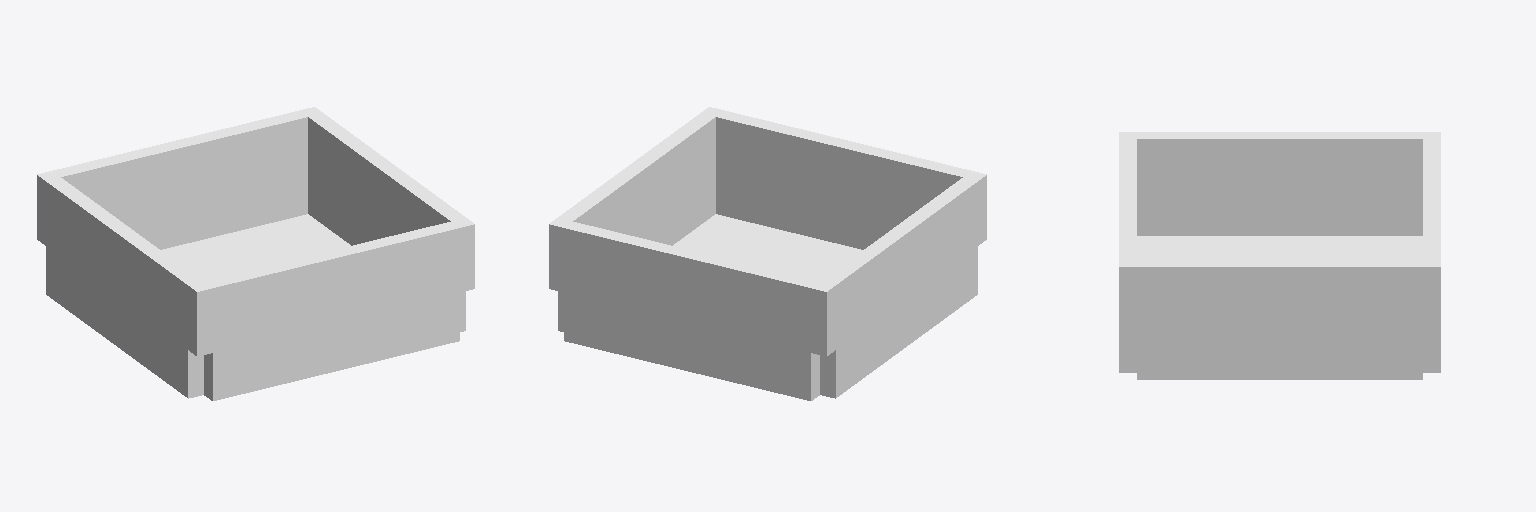
File: Customsbox.obj
3 renders of one model, left to right at view 1: azimuth 30°, elevation 25°; view 2: azimuth 150°, elevation 25°; view 3: azimuth 270°, elevation 25°, orthographic.
Parts seen in each view (by area): view 1: object 1; view 2: object 1; view 3: object 1.
Part boxes in pixels (x1,y1,x2,y2): object 1: (37, 107, 474, 400); object 1: (549, 107, 986, 400); object 1: (1119, 132, 1440, 379).
Size of the model in its own units: 1.8 by 0.7 by 1.8.